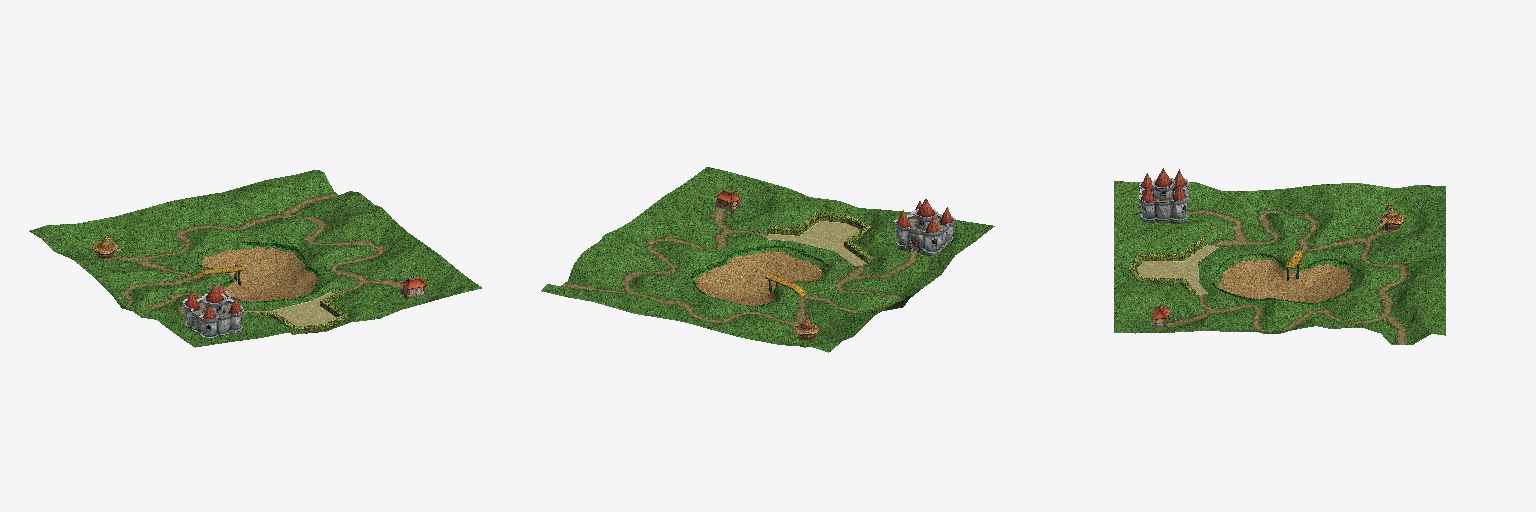
3 views of the same model, side by side, from view 1: azimuth 30°, elevation 25°; view 2: azimuth 150°, elevation 25°; view 3: azimuth 270°, elevation 25° (orthographic).
Parts seen in each view (by area): view 1: Shape03_Shape03_stone_sm; view 2: Shape03_Shape03_stone_sm; view 3: Shape03_Shape03_stone_sm.
Part boxes in pixels (bbox=[...]): Shape03_Shape03_stone_sm: bbox=[29, 170, 481, 347]; Shape03_Shape03_stone_sm: bbox=[541, 167, 994, 352]; Shape03_Shape03_stone_sm: bbox=[1114, 168, 1445, 344].
Size of the model in its own units: 1.08 by 0.2825 by 1.08.
Materials: 11 (11 with a texture image).